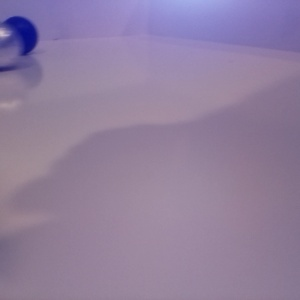alive_ball: (238, 9, 291, 63), (214, 14, 245, 47)
dead_ball: (16, 14, 70, 68)
